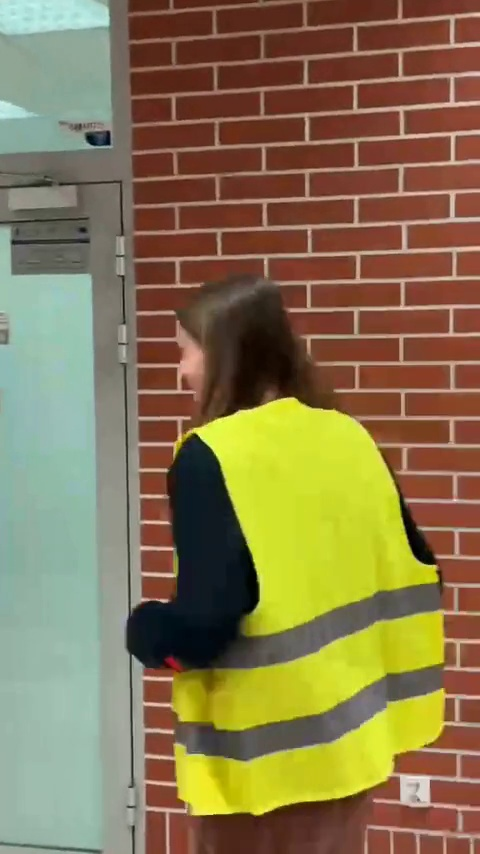vest: (125, 264, 445, 848)
